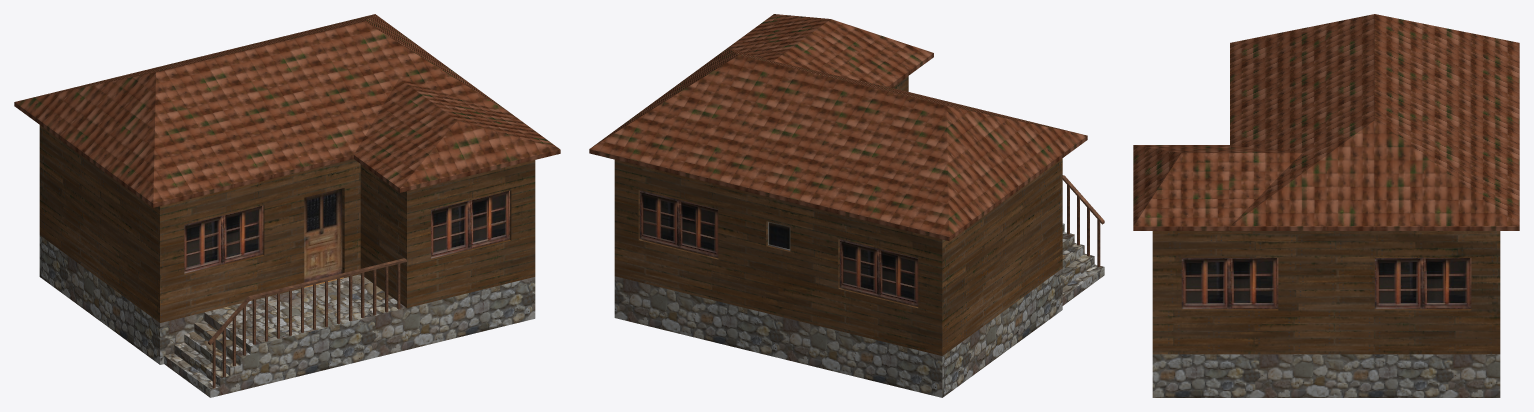
The model's file is house2.glb.
3 views of the same model, side by side, from view 1: azimuth 30°, elevation 25°; view 2: azimuth 150°, elevation 25°; view 3: azimuth 270°, elevation 25° (orthographic). The views are drawn at different scales.
Visible parts, largest first — view 1: house2, house2_windows, house2_door1; view 2: house2, house2_windows; view 3: house2, house2_windows.
Part boxes in pixels (left/top/right/bottom): house2: left=14, top=14, right=560, bottom=397; house2_windows: left=184, top=190, right=511, bottom=274; house2_door1: left=304, top=188, right=342, bottom=282; house2: left=589, top=14, right=1104, bottom=397; house2_windows: left=638, top=190, right=918, bottom=308; house2: left=1133, top=14, right=1519, bottom=397; house2_windows: left=1181, top=258, right=1471, bottom=310.
Size of the model in its own units: 9 by 5.6 by 8.
1 material, 1 textured.
